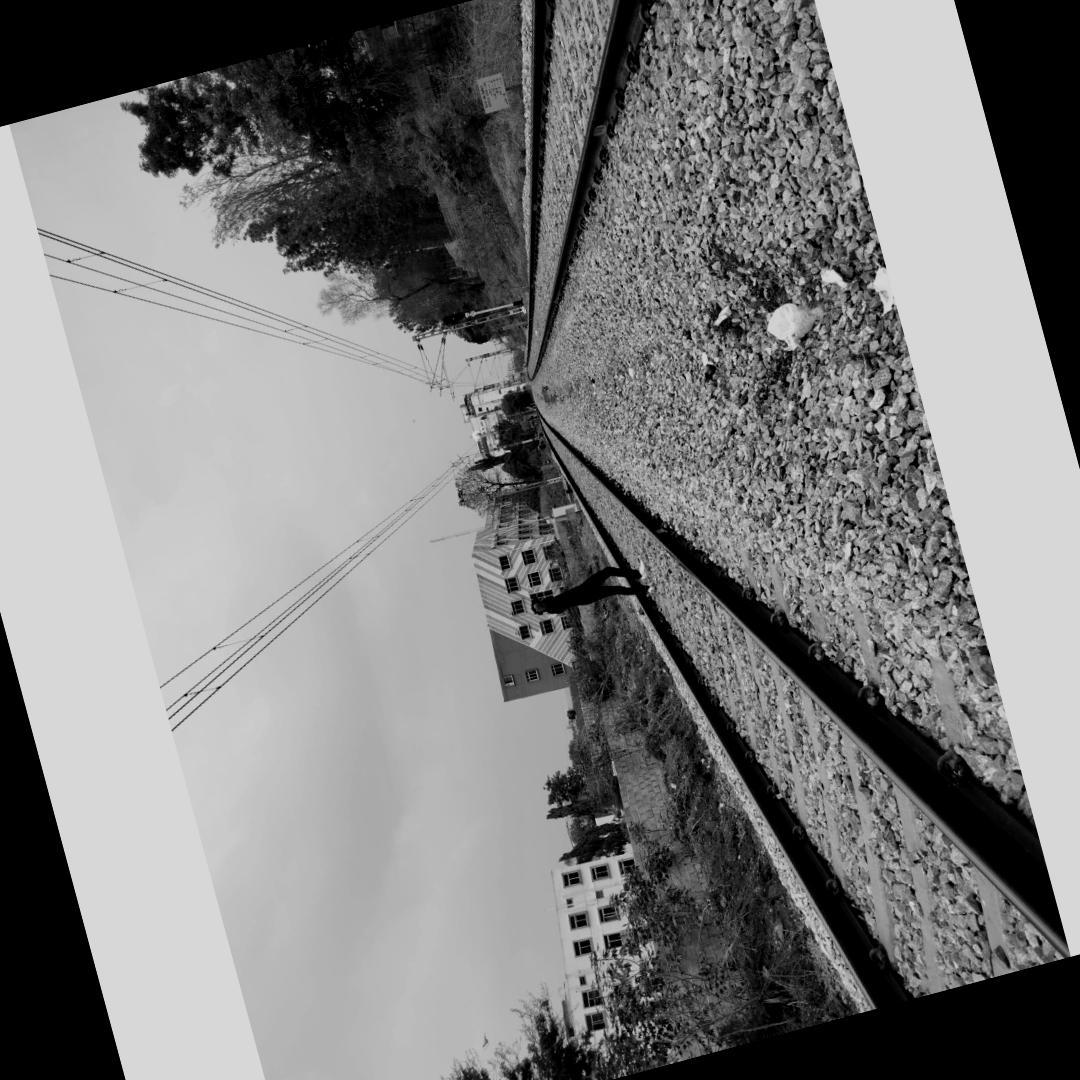standing: (532, 559, 657, 617)
track: (529, 399, 1071, 1012), (519, 0, 680, 384)
